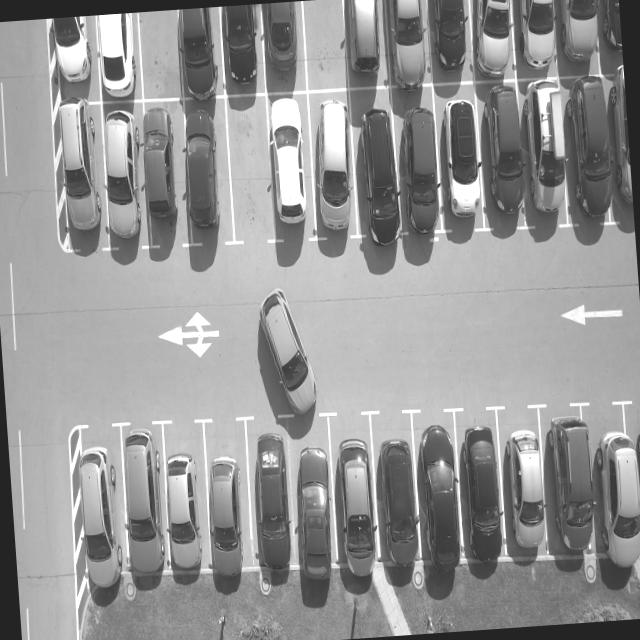car: (536, 400, 604, 580), (579, 400, 640, 589), (66, 421, 130, 599), (114, 418, 174, 589), (198, 413, 258, 578), (410, 406, 468, 574), (366, 407, 422, 580), (154, 416, 212, 582), (493, 402, 551, 568), (555, 81, 619, 228), (328, 412, 384, 580), (304, 86, 364, 242), (453, 404, 511, 564), (177, 93, 236, 250), (244, 422, 302, 577), (48, 101, 108, 250), (345, 85, 403, 238), (138, 96, 194, 253), (472, 86, 532, 232), (287, 418, 340, 582), (516, 83, 575, 229), (390, 87, 448, 235), (262, 89, 316, 244), (436, 92, 494, 236), (97, 99, 151, 251), (44, 17, 100, 107), (256, 1, 308, 94), (602, 82, 634, 226), (380, 0, 434, 85), (94, 12, 146, 100), (220, 3, 270, 94), (425, 0, 480, 82), (176, 6, 226, 96), (339, 0, 388, 86), (548, 0, 602, 78), (511, 0, 565, 77), (465, 0, 517, 79), (593, 0, 622, 71)
free: (223, 93, 280, 248), (297, 0, 352, 88), (136, 9, 186, 99)
